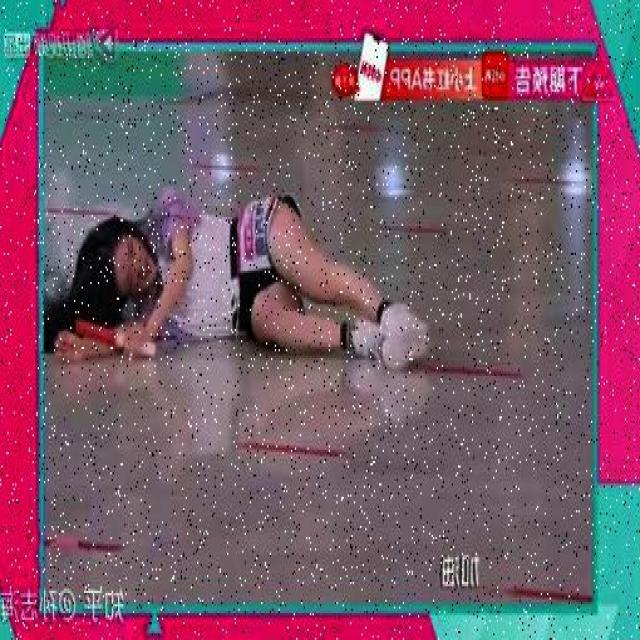fall: (42, 188, 430, 367)
